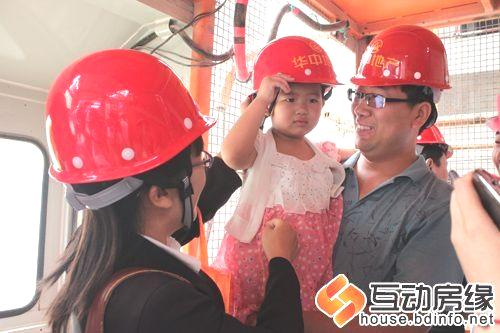helmet: (44, 49, 219, 227), (348, 23, 453, 155), (250, 34, 346, 136)
not_reflective: (322, 145, 488, 307), (33, 221, 258, 331), (223, 127, 340, 252)
